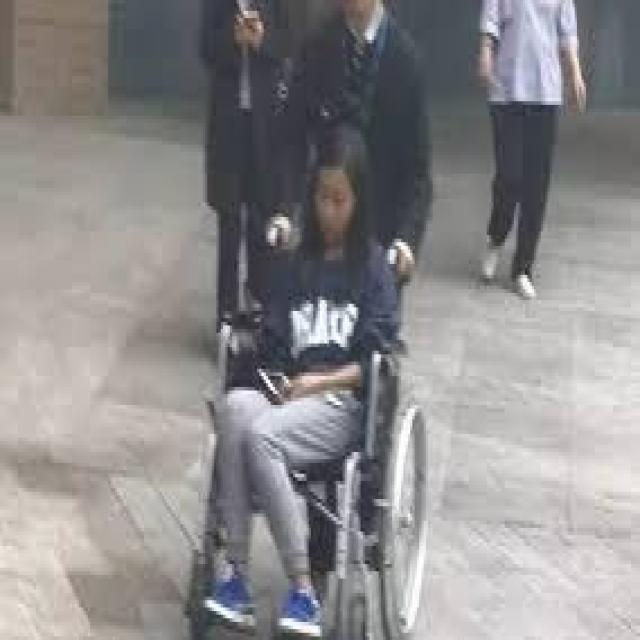wheelchairs: (189, 235, 451, 633)
